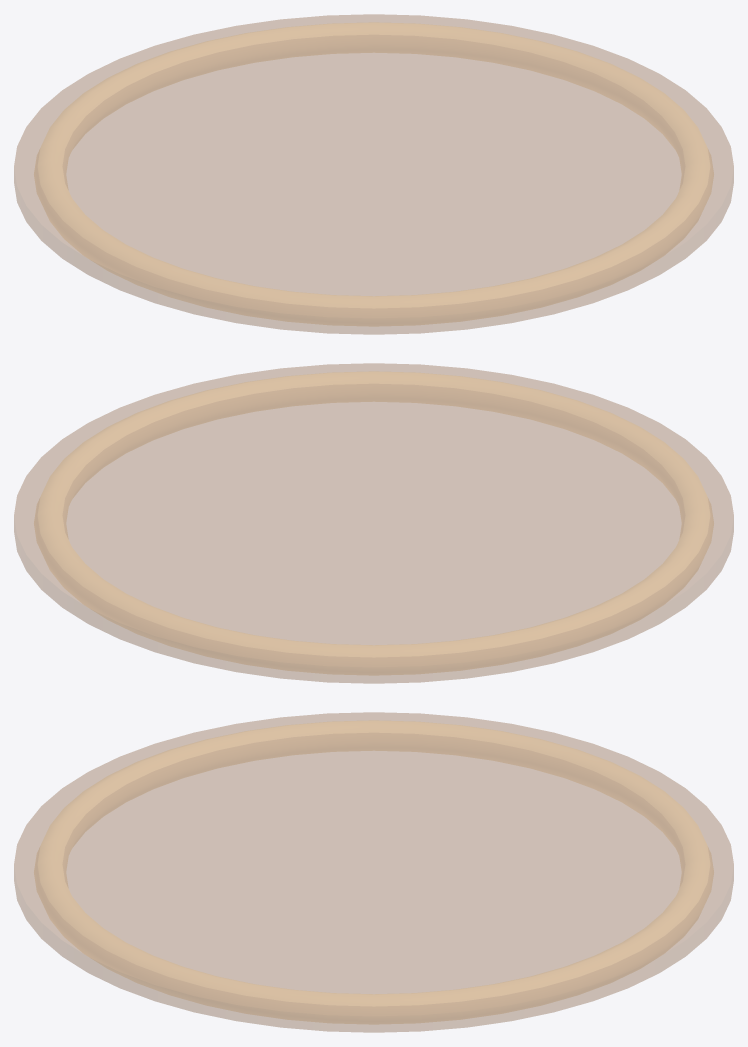
Rendered from phage-plaque.glb.
3 views of the same model, one above another, from view 1: azimuth 30°, elevation 25°; view 2: azimuth 150°, elevation 25°; view 3: azimuth 270°, elevation 25° (orthographic).
Visible parts, largest first — view 1: cloudy_expanding_plaque, soft_plaque_edge; view 2: cloudy_expanding_plaque, soft_plaque_edge; view 3: cloudy_expanding_plaque, soft_plaque_edge.
Part boxes in pixels (x1,y1,x2,y2): cloudy_expanding_plaque: [14, 14, 733, 334]; soft_plaque_edge: [34, 22, 713, 325]; cloudy_expanding_plaque: [14, 363, 733, 683]; soft_plaque_edge: [34, 371, 713, 674]; cloudy_expanding_plaque: [14, 712, 733, 1032]; soft_plaque_edge: [34, 720, 713, 1023].
Size of the model in its own units: 2 by 0.09 by 2.
